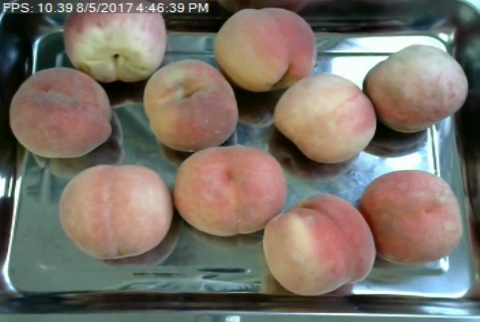Peach: (262, 195, 377, 295), (56, 165, 173, 259), (174, 145, 285, 234), (361, 169, 464, 263), (8, 66, 113, 158), (363, 39, 467, 131), (141, 56, 240, 151), (272, 74, 375, 165), (211, 8, 318, 91), (64, 0, 168, 82)
